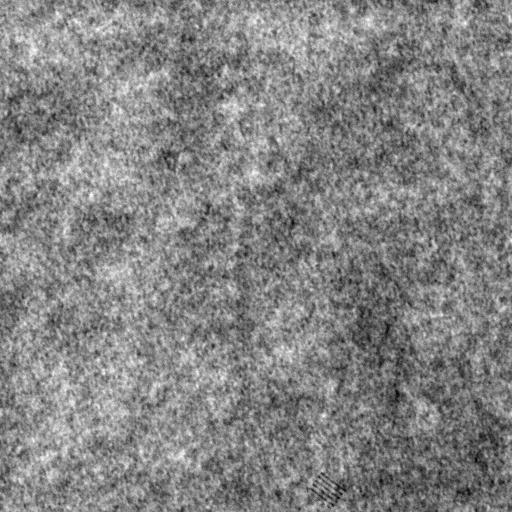DefectTypeB: (311, 472, 345, 506)
